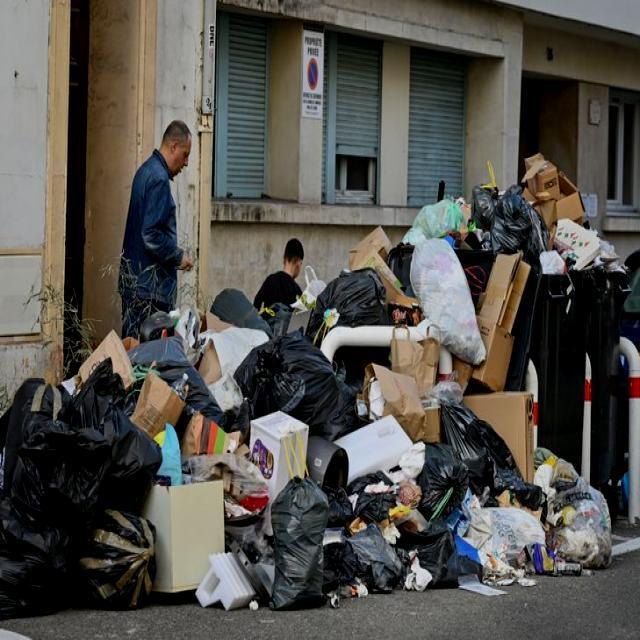high trash: (0, 158, 628, 618)
